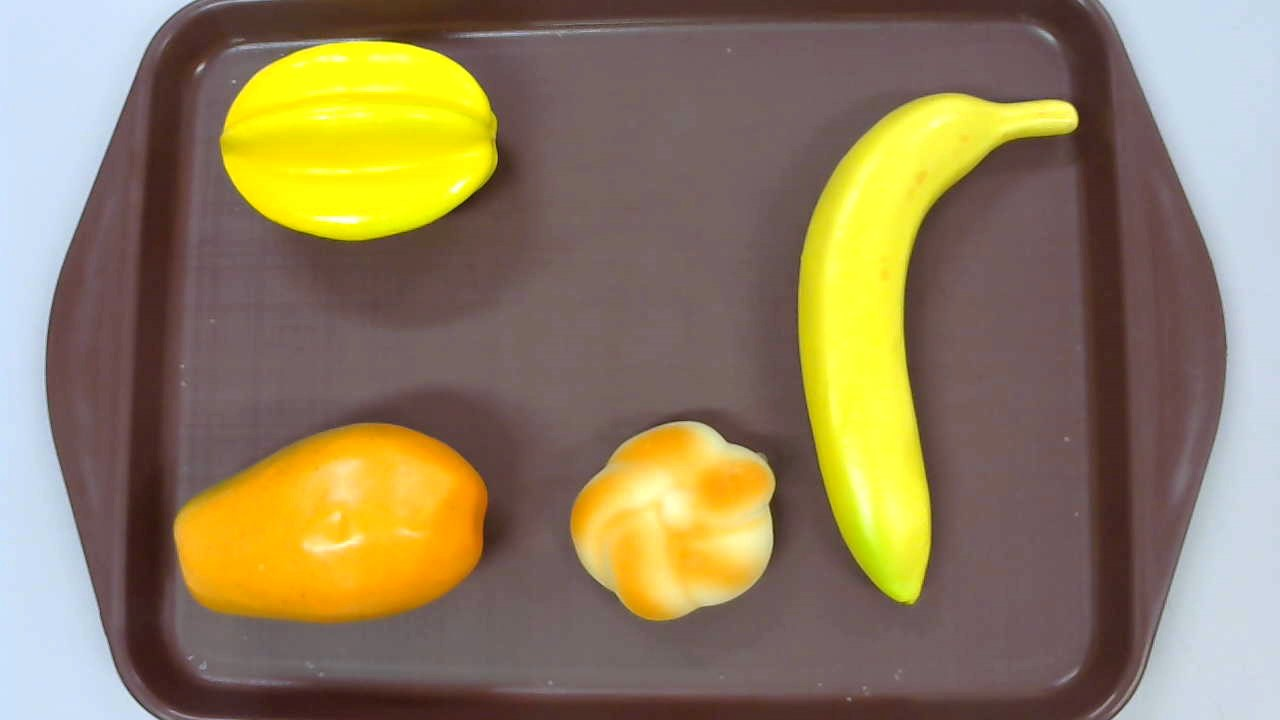banana: (797, 92, 1078, 605)
papaya: (173, 420, 489, 623)
star fruit: (220, 41, 498, 241)
twist bread: (570, 421, 775, 622)
